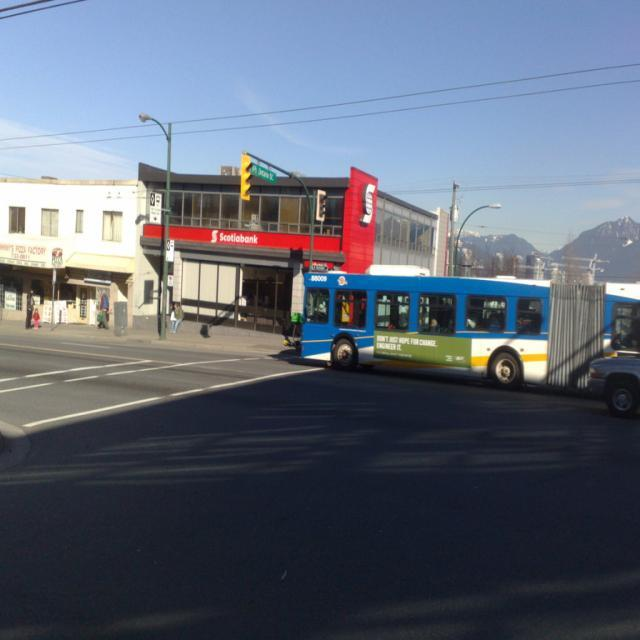traffic light: (316, 190, 326, 222)
